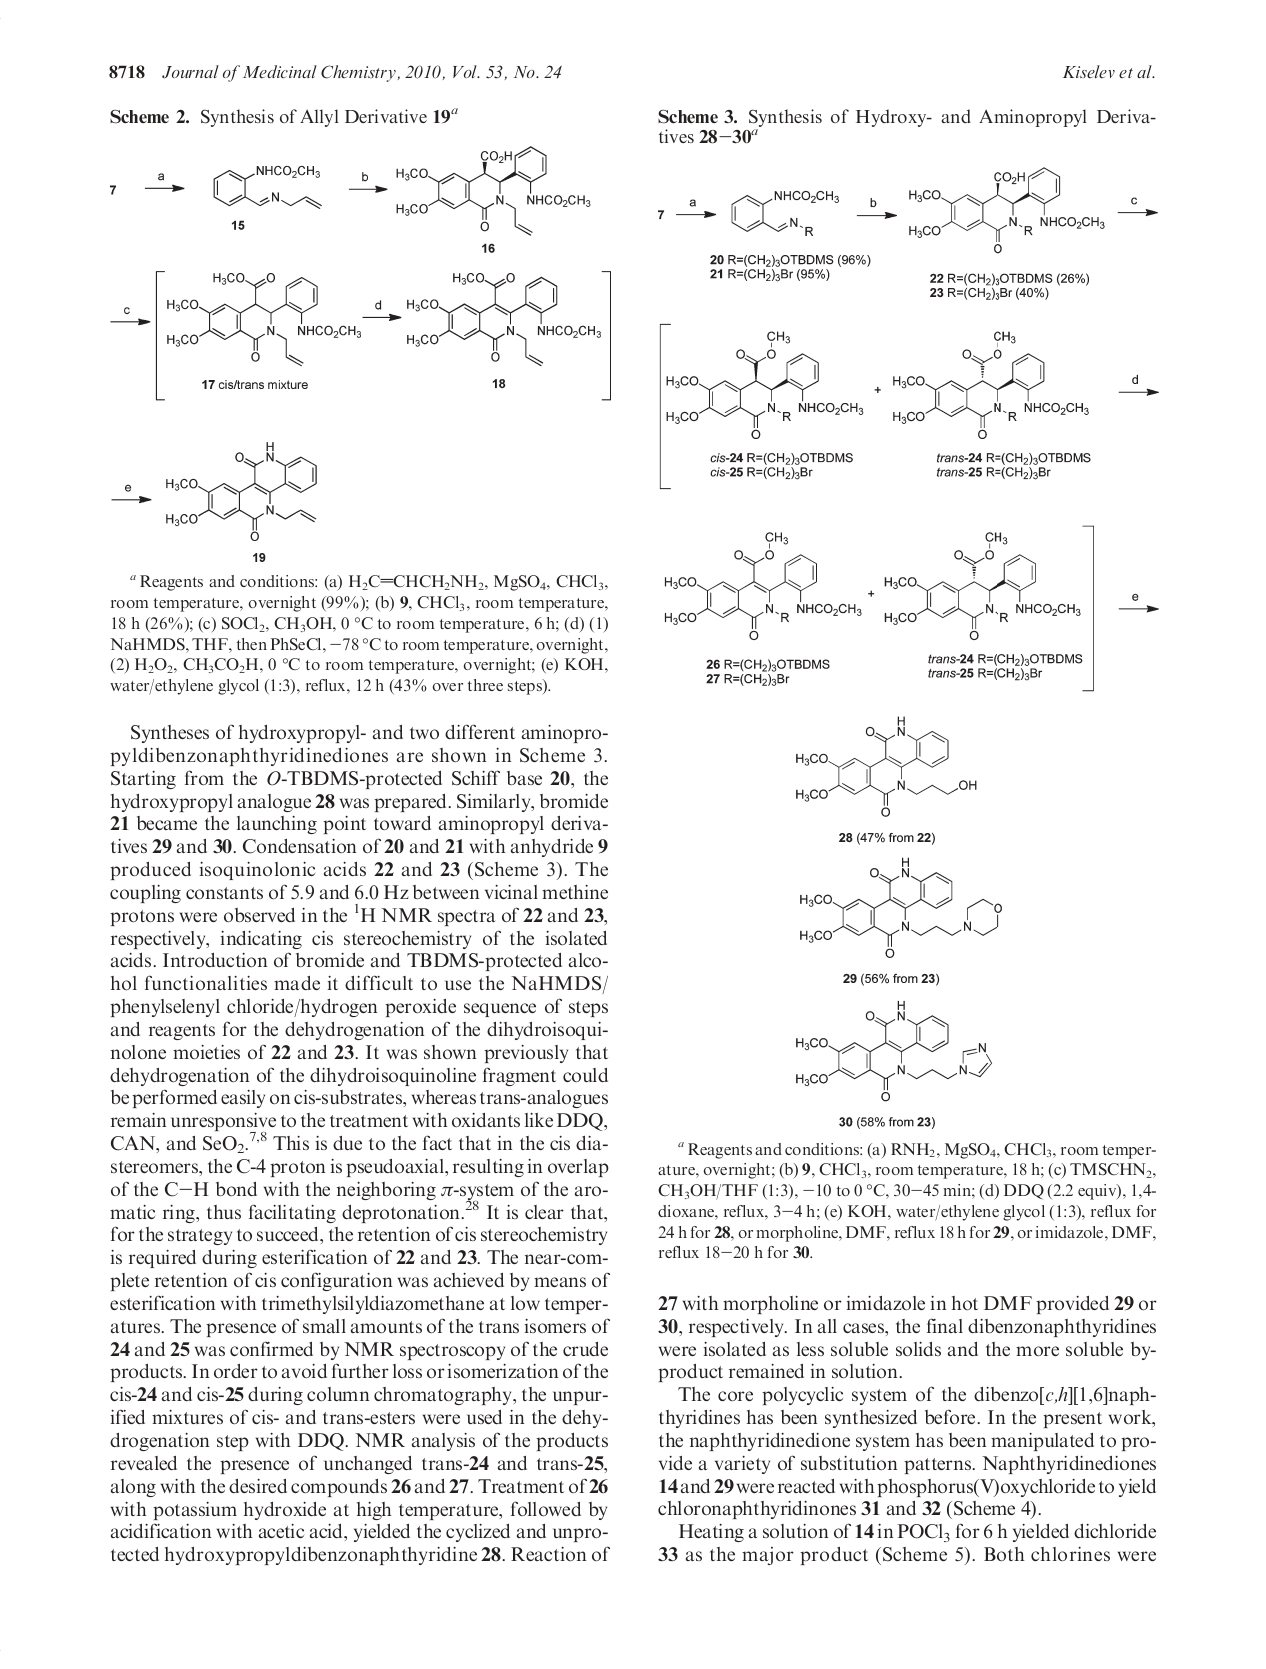exist_molecular: (665, 327, 866, 442), (892, 328, 1090, 442), (662, 531, 863, 641), (882, 531, 1082, 641), (798, 855, 1005, 959), (795, 997, 993, 1102), (793, 713, 979, 819), (166, 270, 362, 367), (406, 270, 602, 366), (395, 144, 593, 235), (906, 166, 1106, 255), (165, 440, 319, 543), (729, 188, 842, 238), (211, 162, 322, 210)
